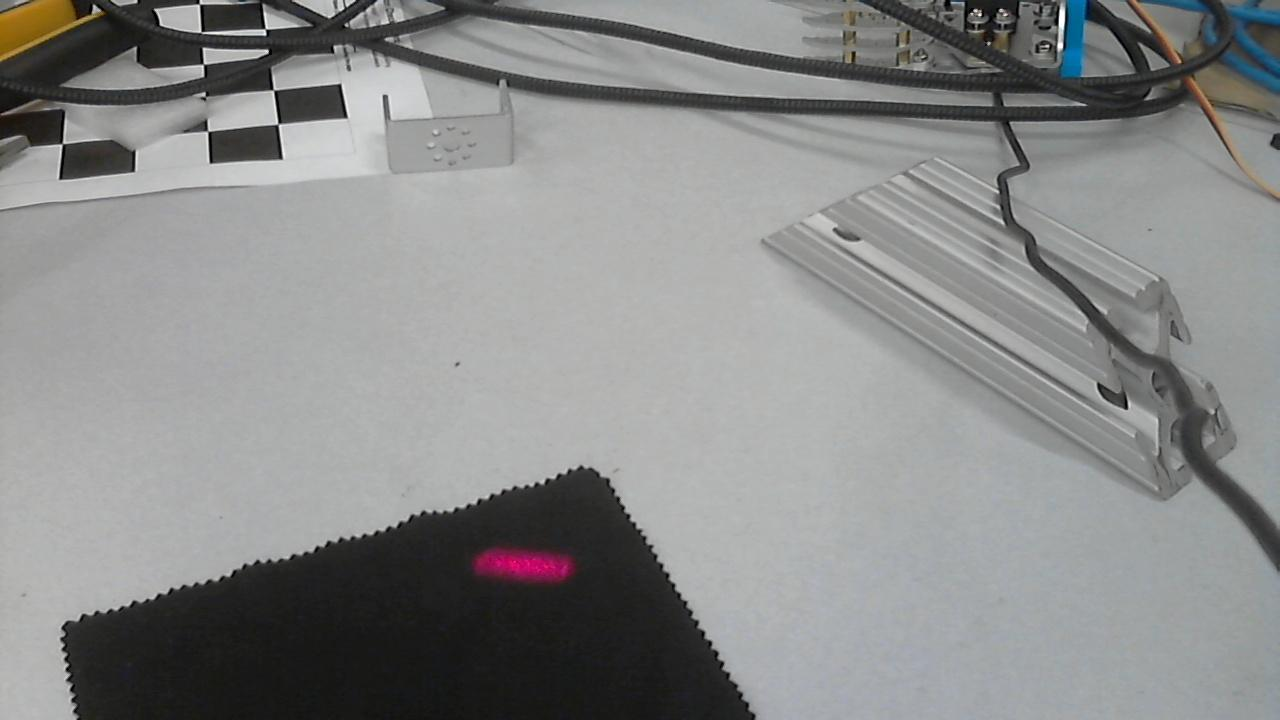Object microfiber cleaning cloth - Material fabric - Color black - Pdfname drQGv: (475, 538, 580, 598)
